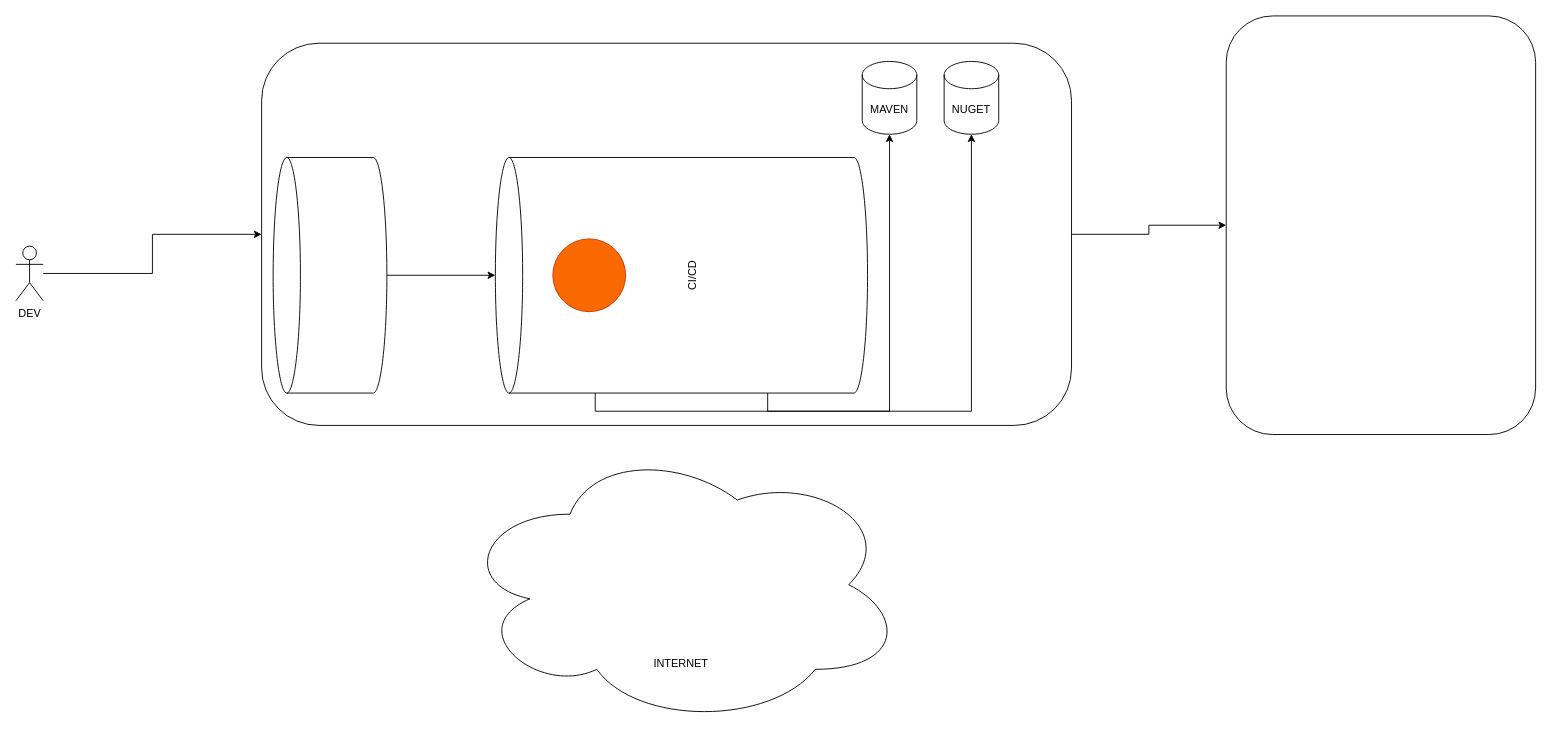
Some shapes in this 1552 by 742 pixel diagram are drawn without their labels. The centre of each missing label's shape, as x and y in pixels:
CODEBASE: pixel 329 275
Dotnet App: pixel 589 275
VM DOCKER K8S OpenShift VM Vare Tanzu VM Vare AWS GCP AZURE: pixel 1380 225
